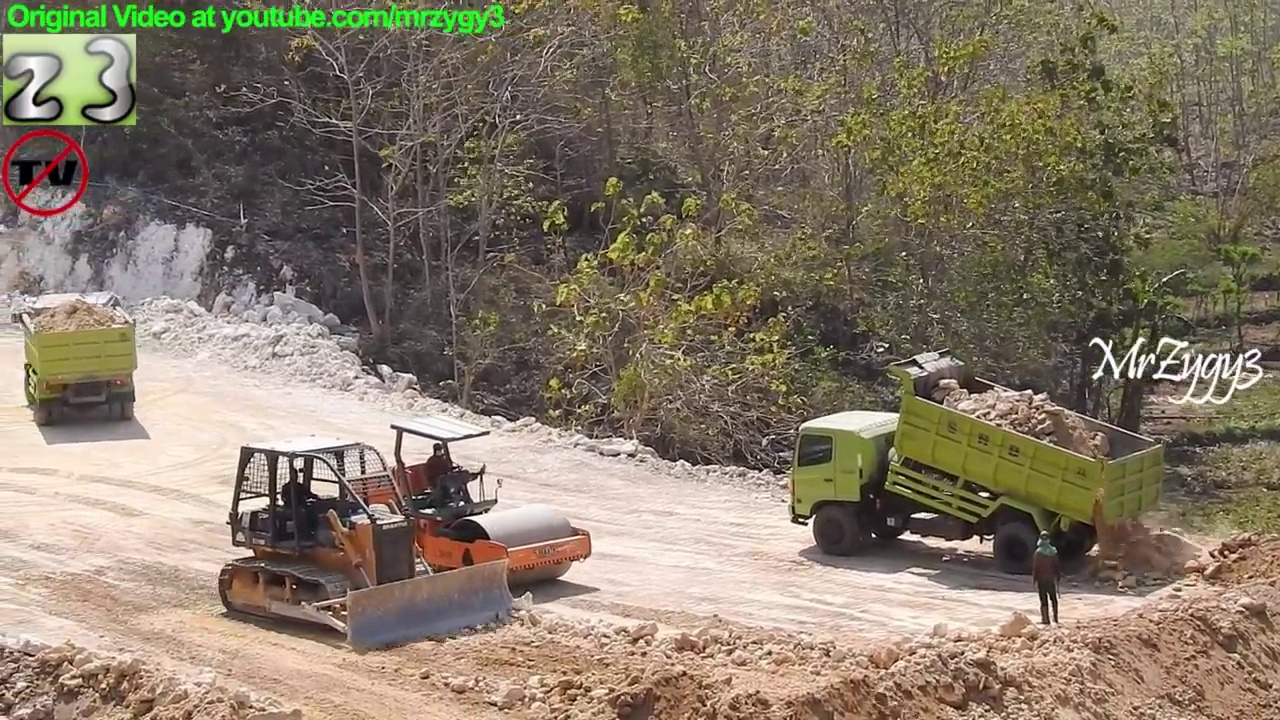bulldozer: (213, 431, 522, 658)
compactor: (337, 407, 595, 596)
truck: (774, 345, 1175, 579), (7, 286, 141, 434)
